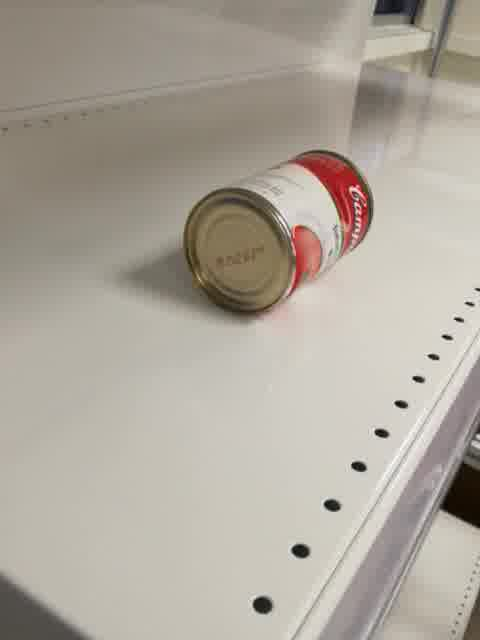tomatosoup: (180, 147, 378, 318)
